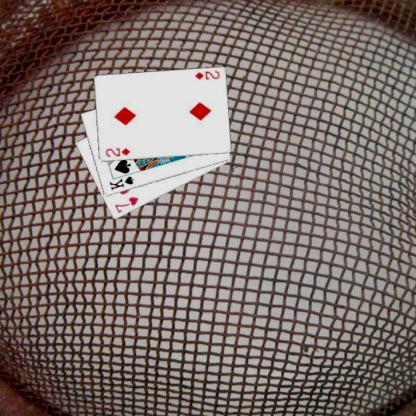2D: (192, 68, 221, 82), (103, 146, 131, 158)
7H: (112, 194, 140, 214)
KS: (106, 174, 135, 192)
